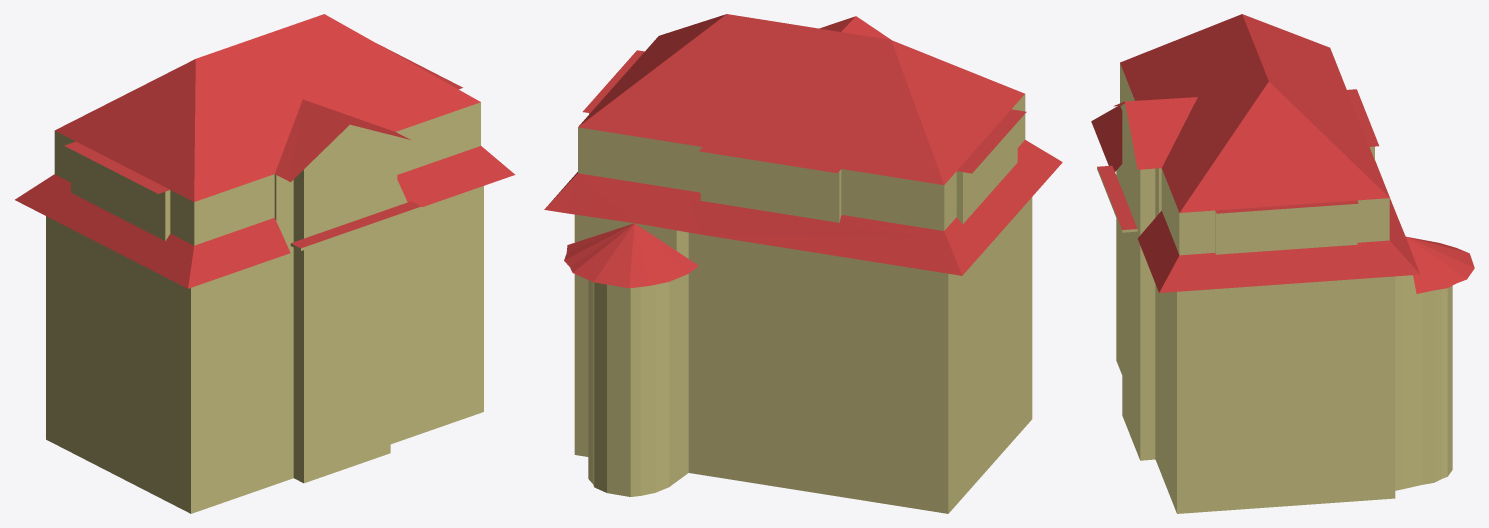
3 views of the same model, side by side, from view 1: azimuth 30°, elevation 25°; view 2: azimuth 150°, elevation 25°; view 3: azimuth 270°, elevation 25° (orthographic). The views are drawn at different scales.
Visible parts, largest first — view 1: group_5, group_13, group_3, group_11, group_12, group_15; view 2: group_5, group_3, group_13, group_9, group_11, group_12, group_7, group_8; view 3: group_5, group_3, group_13, group_11, group_9, group_12, group_7, group_15, group_8.
Part boxes in pixels (x1,y1,x2,y2): group_5: [54, 102, 480, 500]; group_13: [46, 180, 483, 513]; group_3: [55, 14, 480, 201]; group_11: [15, 146, 514, 288]; group_12: [18, 151, 511, 287]; group_15: [291, 201, 421, 248]; group_5: [578, 94, 1025, 496]; group_3: [578, 14, 1026, 184]; group_13: [574, 197, 1032, 513]; group_9: [588, 279, 676, 496]; group_11: [544, 140, 1062, 275]; group_12: [544, 143, 1056, 275]; group_7: [564, 223, 698, 288]; group_8: [564, 237, 698, 288]; group_5: [1120, 63, 1389, 511]; group_3: [1115, 14, 1389, 213]; group_13: [1116, 164, 1412, 513]; group_11: [1091, 106, 1420, 292]; group_9: [1413, 276, 1452, 486]; group_12: [1091, 109, 1418, 292]; group_7: [1406, 236, 1474, 290]; group_15: [1097, 165, 1137, 229]; group_8: [1413, 248, 1474, 293].
Bounding box in the file's own units: 15.48 × 13.2 × 14.4.
